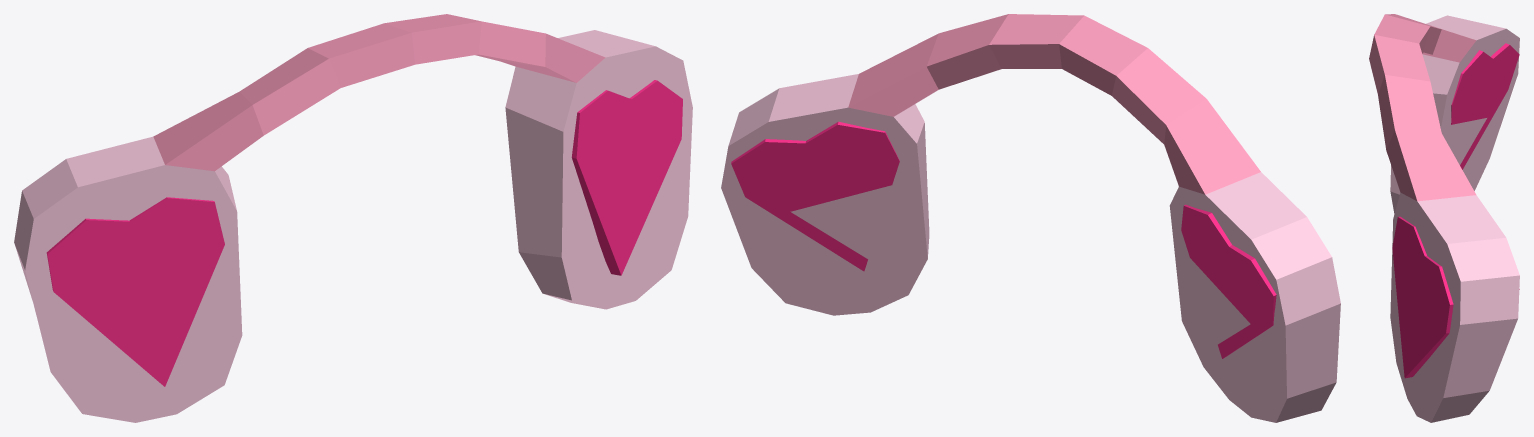
Rendered from PinkHeadphones.fbx.
The picture shows the model from 3 angles, left to right: view 1: azimuth 30°, elevation 25°; view 2: azimuth 150°, elevation 25°; view 3: azimuth 270°, elevation 25°; orthographic projection. The views are drawn at different scales.
Visible parts, largest first — view 1: Headphones; view 2: Headphones; view 3: Headphones.
Boxes of the visible parts, x1=… form: Headphones: x1=14, y1=14, x2=692, y2=422; Headphones: x1=721, y1=14, x2=1340, y2=422; Headphones: x1=1369, y1=14, x2=1519, y2=422.
Bounding box in the file's own units: 34.68 × 17.41 × 8.38.
